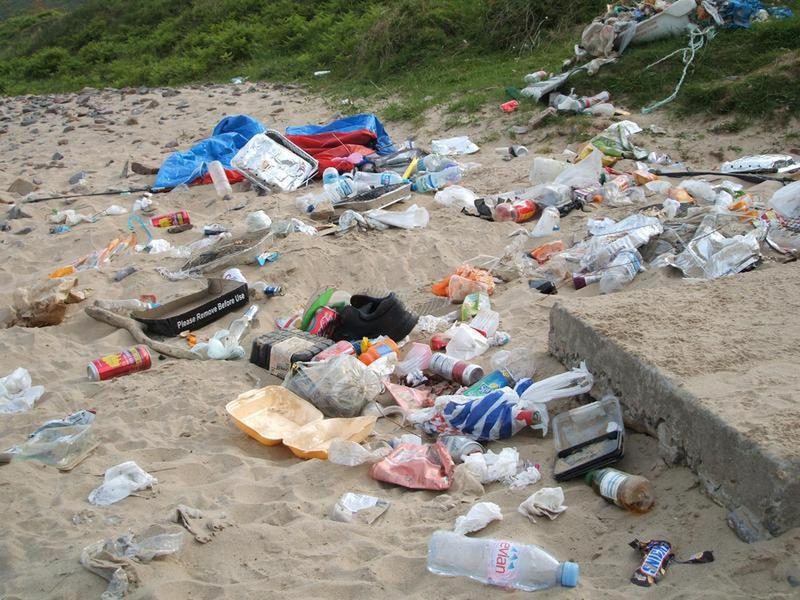bottle: (421, 529, 582, 590), (580, 464, 657, 514)
can: (83, 341, 155, 384), (428, 348, 486, 386)
cardboard: (111, 267, 251, 334)
plastic: (152, 107, 393, 185), (427, 363, 595, 440), (281, 349, 399, 414), (618, 524, 714, 591), (530, 140, 608, 207)
